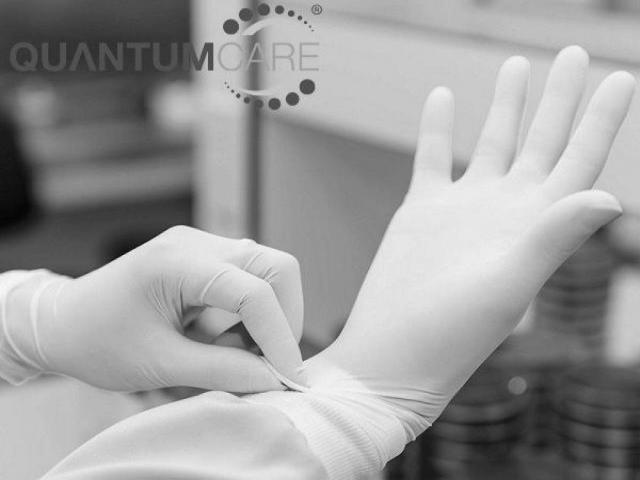gloved: (357, 44, 640, 370), (48, 224, 308, 392)
